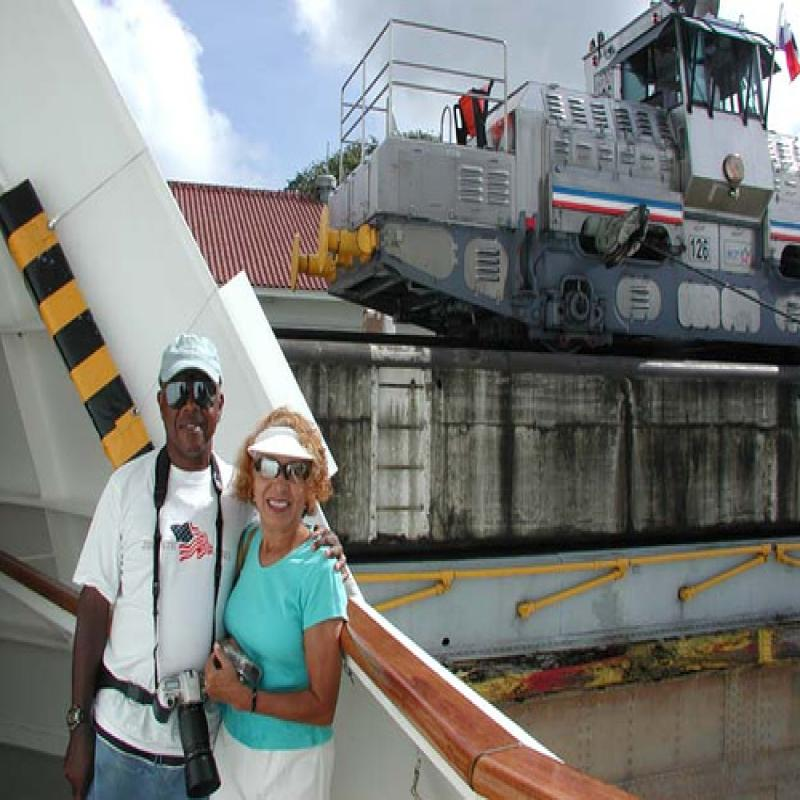train: (290, 3, 800, 355)
